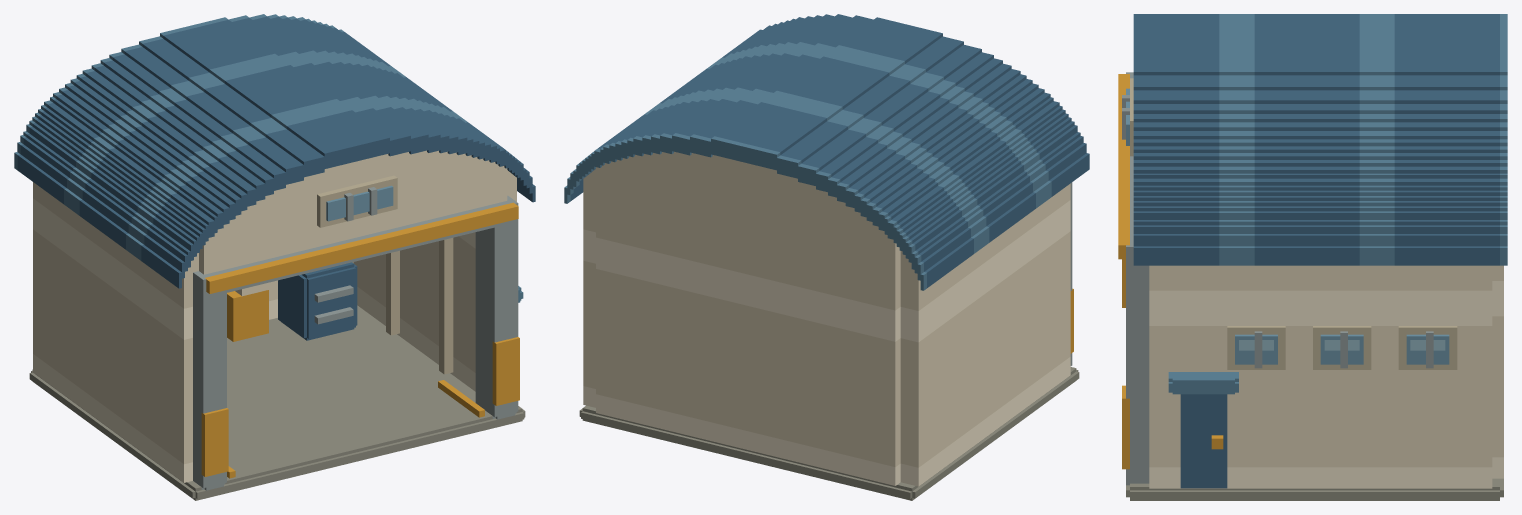
File: maintenance_hangar.glb
The picture shows the model from 3 angles, left to right: view 1: azimuth 30°, elevation 25°; view 2: azimuth 150°, elevation 25°; view 3: azimuth 270°, elevation 25°; orthographic projection. The views are drawn at different scales.
Visible parts, largest first — view 1: maintenance_hangar; view 2: maintenance_hangar; view 3: maintenance_hangar.
Boxes of the visible parts, <box> form: maintenance_hangar: <box>14,14,535,500</box>; maintenance_hangar: <box>564,14,1089,500</box>; maintenance_hangar: <box>1118,14,1507,500</box>.
Size of the model in its own units: 6.05 by 5.05 by 5.
